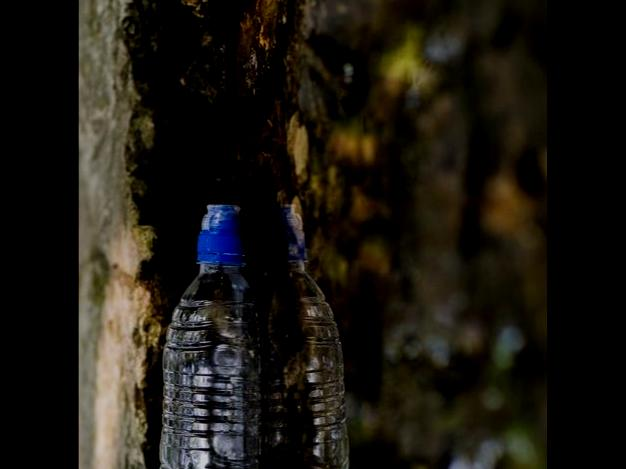bottle: (136, 176, 302, 469)
